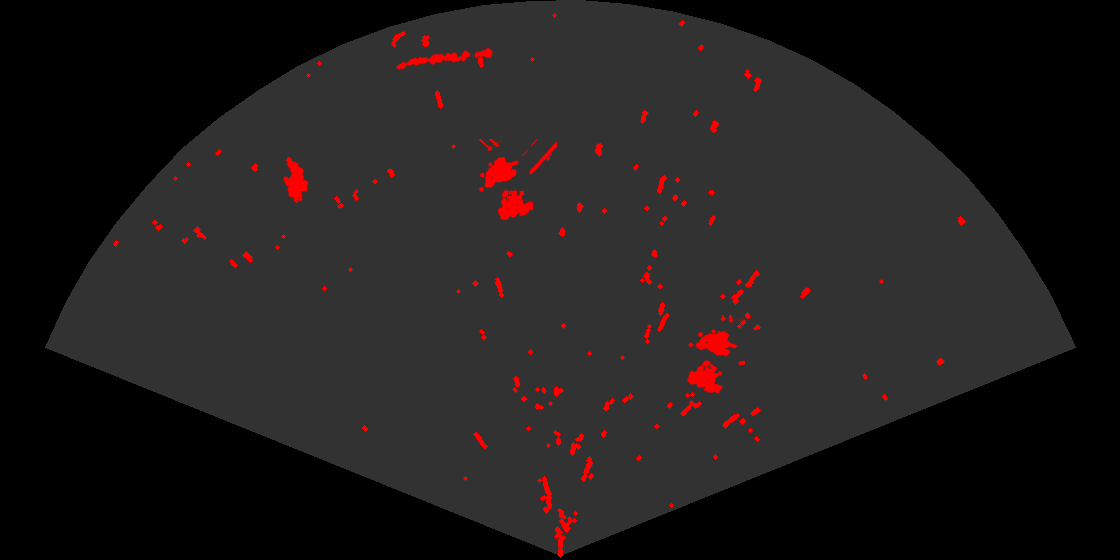AUV: (282, 155, 310, 205)
cage: (477, 139, 557, 222), (686, 315, 745, 395)
chain: (394, 46, 494, 71)
